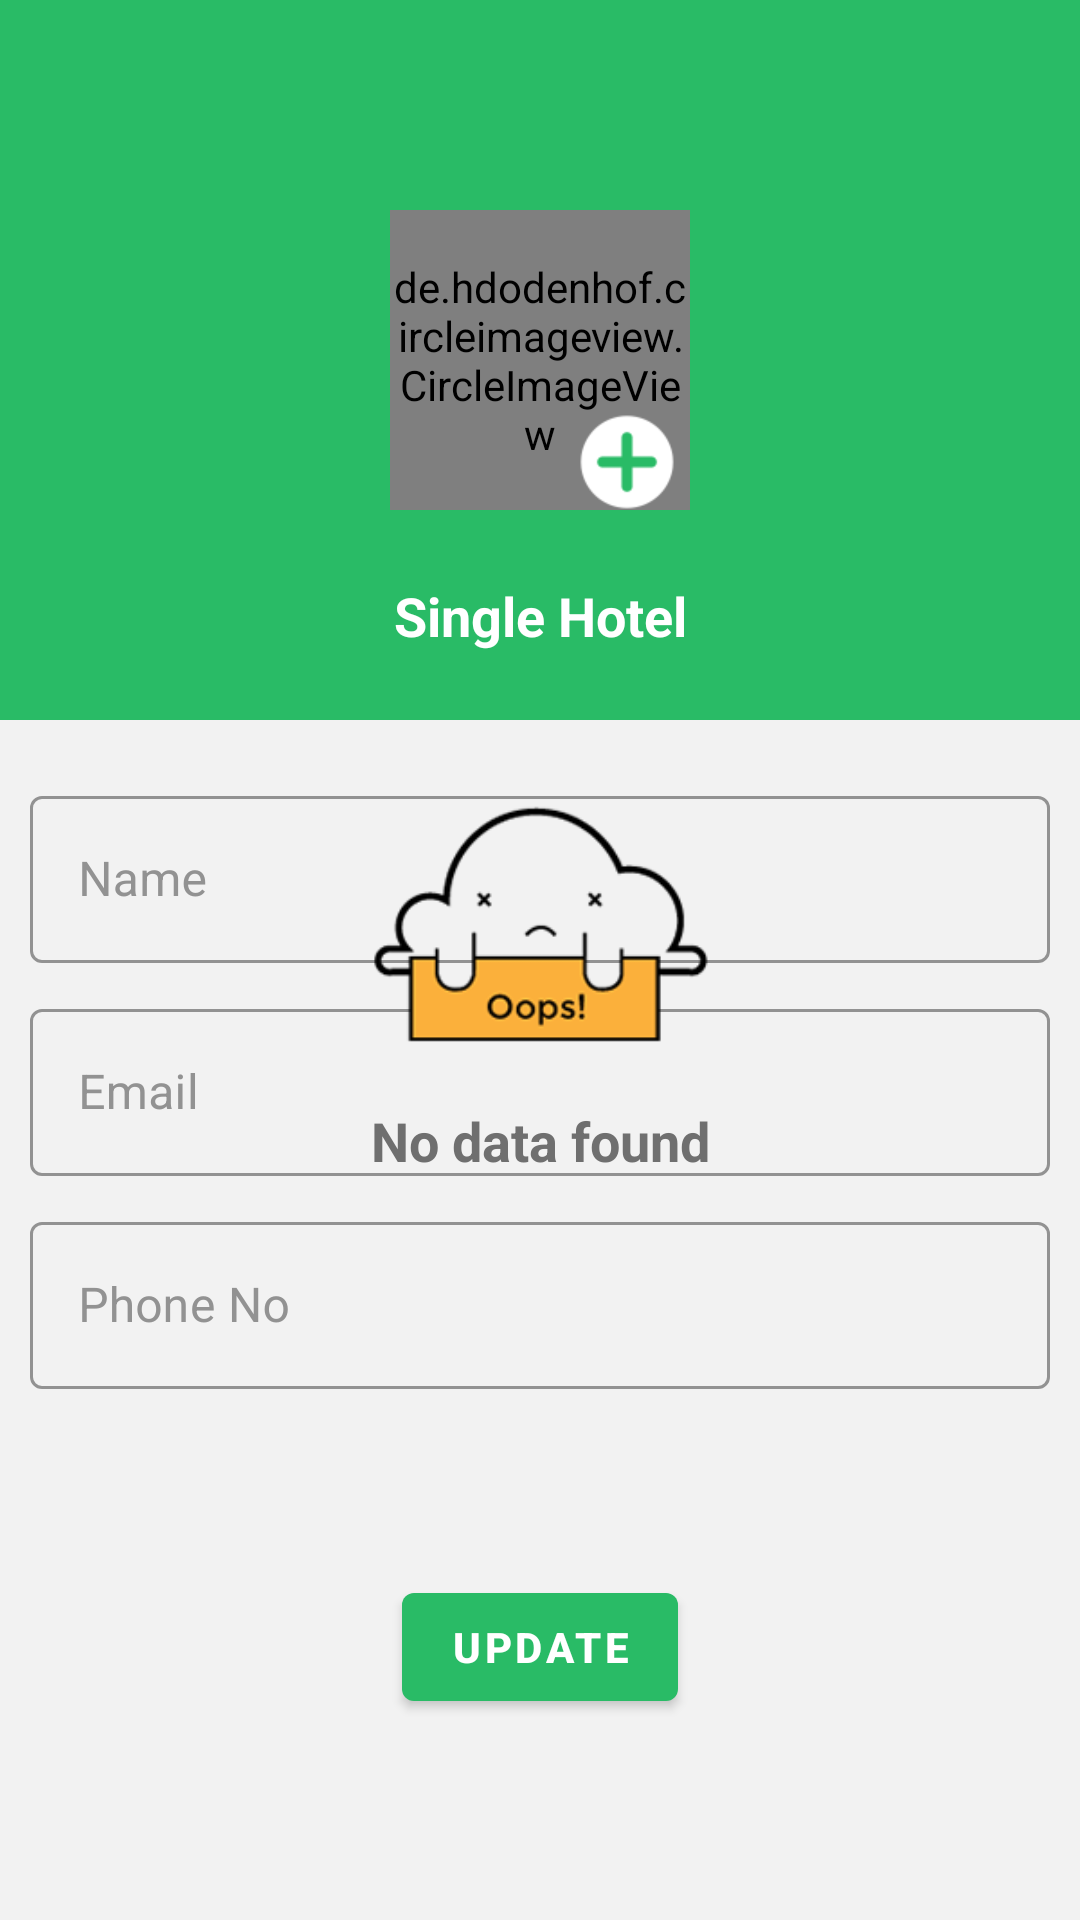

Icon bounding boxes for this 1080x1920 phone screenshot, format [left=x1, top=y1, right=x2, bottom=y2]:
add profile: [left=580, top=415, right=674, bottom=509]
